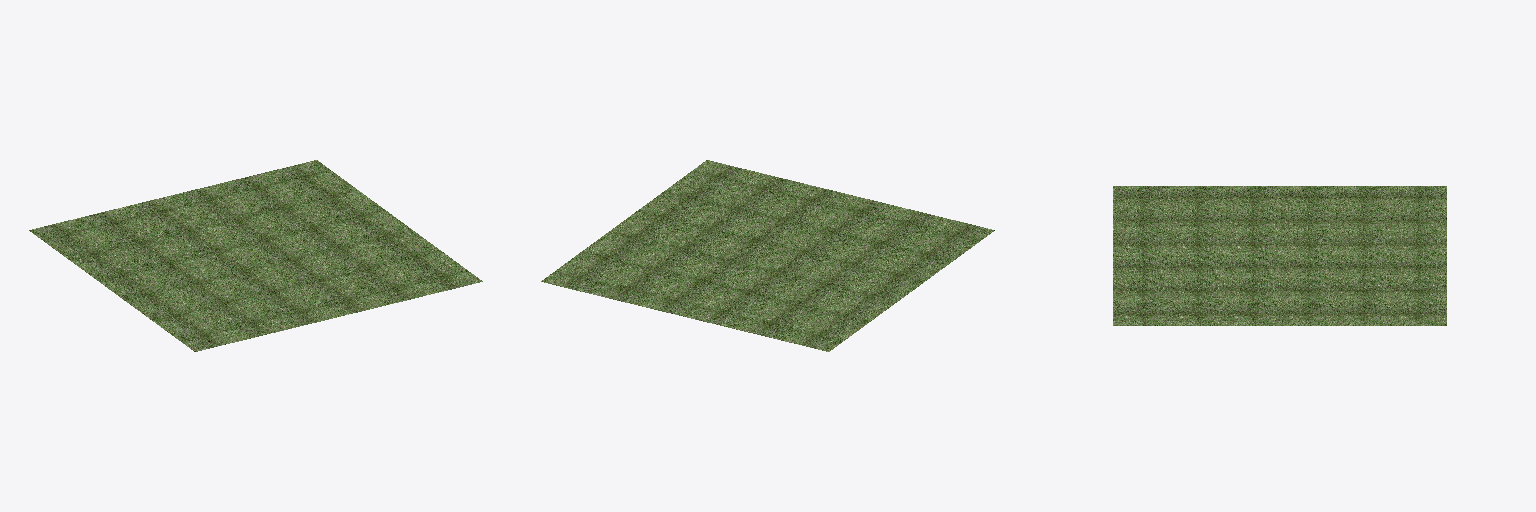
3 renders of one model, left to right at view 1: azimuth 30°, elevation 25°; view 2: azimuth 150°, elevation 25°; view 3: azimuth 270°, elevation 25°, orthographic.
Bounding box in the file's own units: 24 × 0 × 24.
1 materials, 1 textured.